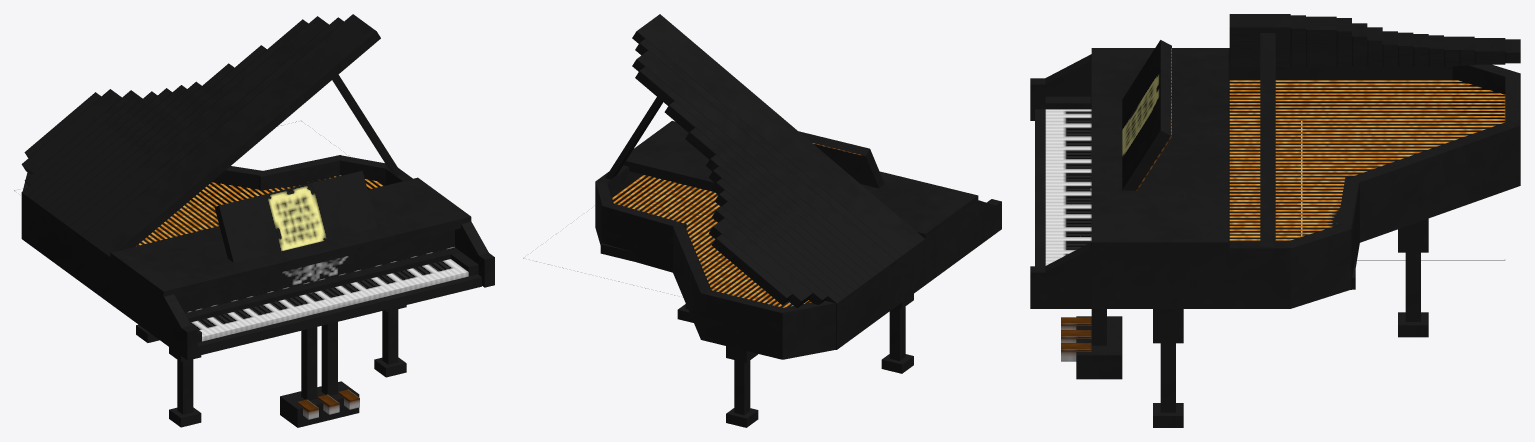
The model's file is grand_piano.obj.
3 views of the same model, side by side, from view 1: azimuth 30°, elevation 25°; view 2: azimuth 150°, elevation 25°; view 3: azimuth 270°, elevation 25° (orthographic). The views are drawn at different scales.
Parts seen in each view (by area): view 1: top, lid1, musicboard, side3, keys, backboard, lid3, bottom1, front4, lid2, lid4, lid5 (+26 smaller); view 2: lid1, top, side3, lid3, side5, strings, side7, side4, lid4, lid2, lid5, side6 (+20 smaller); view 3: top, strings, side9, side6, side3, keys, bottom1, musicboard, side8, bottom2, arm, lid1 (+30 smaller).
Boxes of the visible parts, bbox=[...] form: top: bbox=[110, 177, 471, 299]; lid1: bbox=[87, 14, 380, 256]; musicboard: bbox=[214, 170, 377, 262]; side3: bbox=[21, 193, 163, 342]; keys: bbox=[190, 259, 468, 341]; backboard: bbox=[176, 230, 454, 313]; lid3: bbox=[69, 16, 328, 235]; bottom1: bbox=[197, 274, 481, 355]; front4: bbox=[185, 247, 460, 322]; lid2: bbox=[81, 17, 343, 239]; lid4: bbox=[63, 19, 308, 226]; lid5: bbox=[57, 45, 266, 222]; lid1: bbox=[632, 14, 924, 255]; top: bbox=[623, 121, 978, 238]; side3: bbox=[836, 201, 978, 349]; lid3: bbox=[632, 50, 895, 268]; side5: bbox=[701, 290, 787, 359]; strings: bbox=[523, 175, 811, 327]; side7: bbox=[601, 203, 686, 272]; side4: bbox=[779, 301, 835, 359]; lid4: bbox=[635, 67, 883, 272]; lid2: bbox=[635, 39, 901, 260]; lid5: bbox=[664, 101, 877, 277]; side6: bbox=[673, 225, 712, 339]; top: bbox=[1091, 48, 1229, 254]; strings: bbox=[1229, 80, 1505, 260]; side9: bbox=[1091, 242, 1290, 308]; side6: bbox=[1347, 120, 1520, 242]; side3: bbox=[1229, 66, 1452, 118]; keys: bbox=[1045, 109, 1091, 265]; bottom1: bbox=[1035, 109, 1301, 266]; musicboard: bbox=[1122, 40, 1171, 190]; side8: bbox=[1283, 224, 1351, 308]; bottom2: bbox=[1302, 109, 1355, 289]; arm: bbox=[1260, 33, 1275, 245]; lid1: bbox=[1229, 14, 1290, 66].
Bounding box in the file's own units: 2.16 × 2.14 × 2.3.
